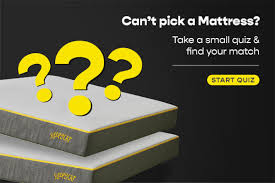bed-matress: (1, 71, 179, 158), (1, 130, 178, 183)
